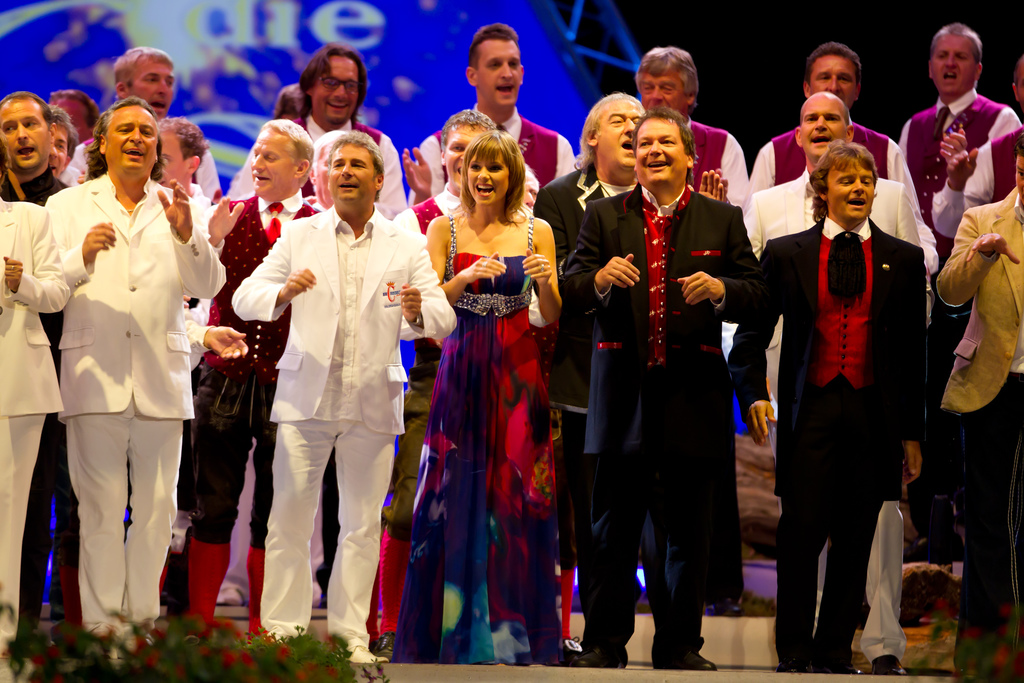Person: (0, 23, 1023, 683)
